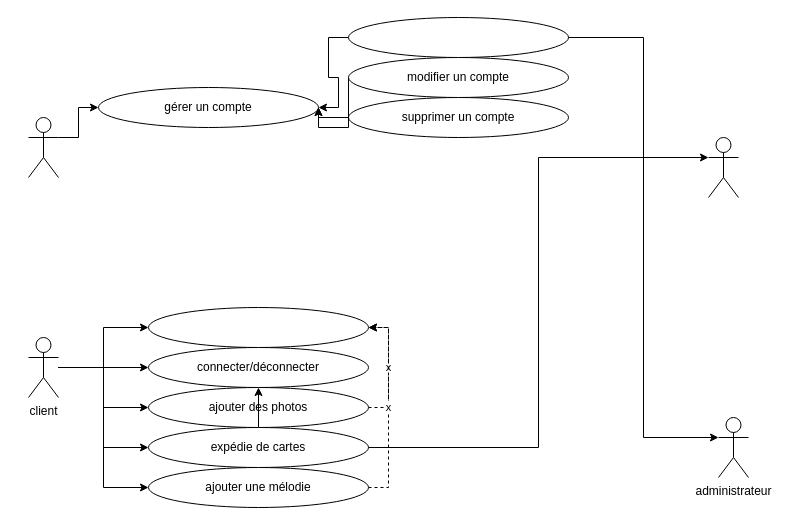
This 789x525 diagram has some shape labels left out. Each missing label, with the centre of its shape:
créer des cartes: (258,327)
créer un compte: (458,37)
destinataire: (723,167)
internaute: (43,147)
